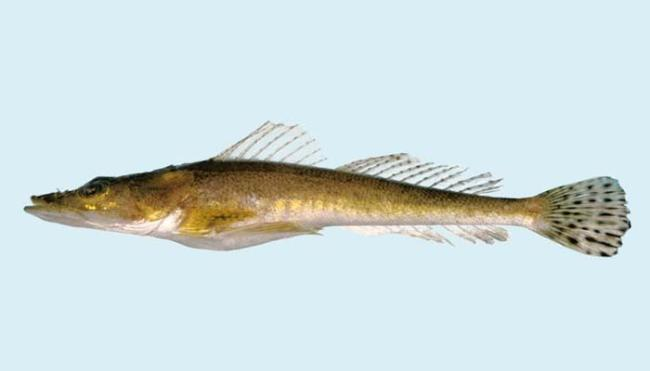fish: (22, 121, 632, 259)
